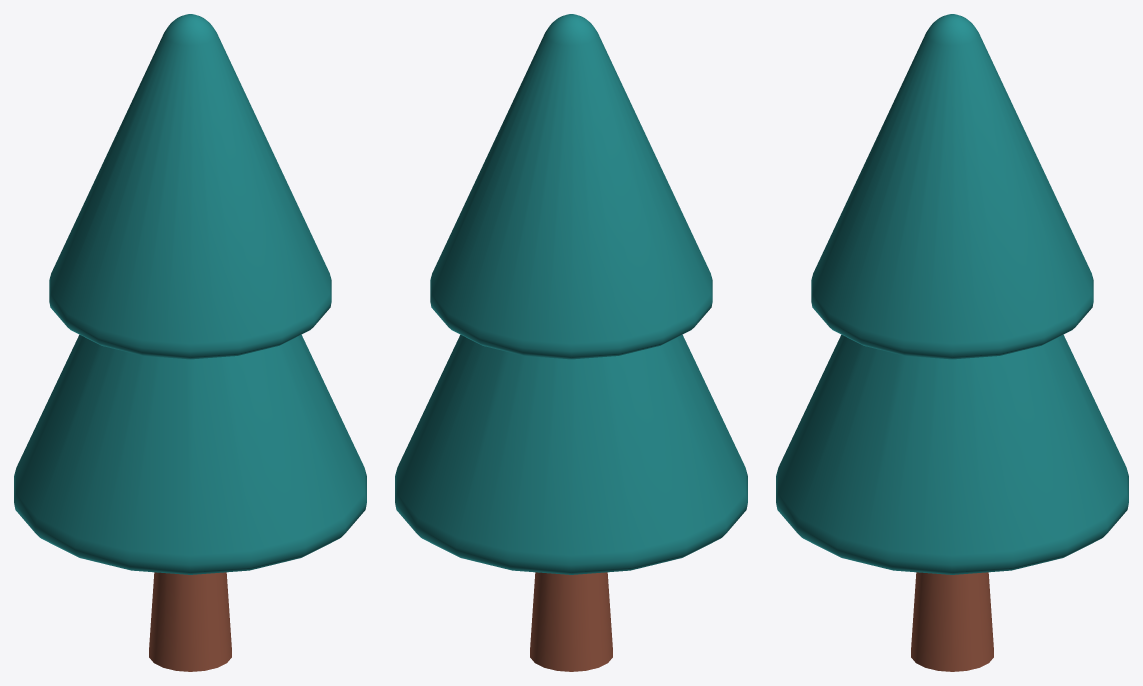
The model's file is tree_forest.glb.
The picture shows the model from 3 angles, left to right: view 1: azimuth 30°, elevation 25°; view 2: azimuth 150°, elevation 25°; view 3: azimuth 270°, elevation 25°; orthographic projection.
Parts seen in each view (by area): view 1: tree_forest; view 2: tree_forest; view 3: tree_forest.
Boxes of the visible parts, box(x1,y1,x2,y2) form: tree_forest: box(14, 14, 366, 671); tree_forest: box(395, 14, 747, 671); tree_forest: box(776, 14, 1128, 671).
Size of the model in its own units: 1.53 by 3 by 1.5.
